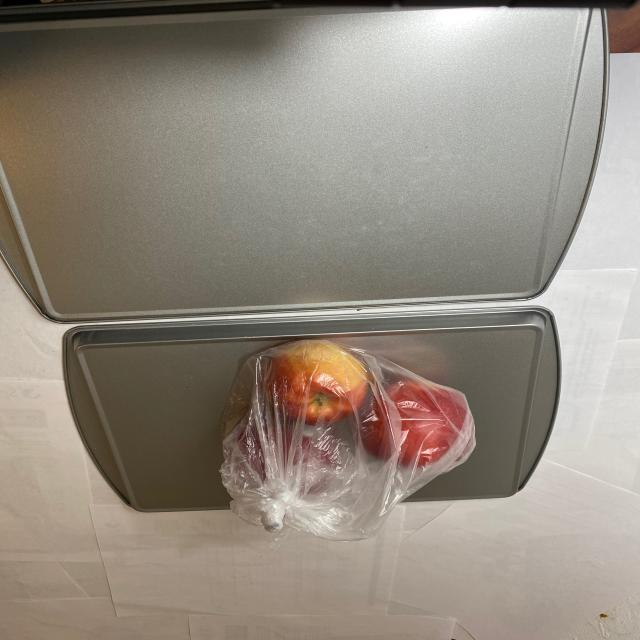apple: (231, 342, 481, 500)
